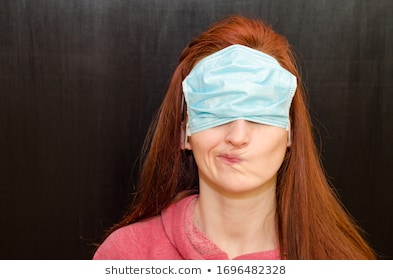mask_weared_incorrect: (188, 75, 293, 195)
